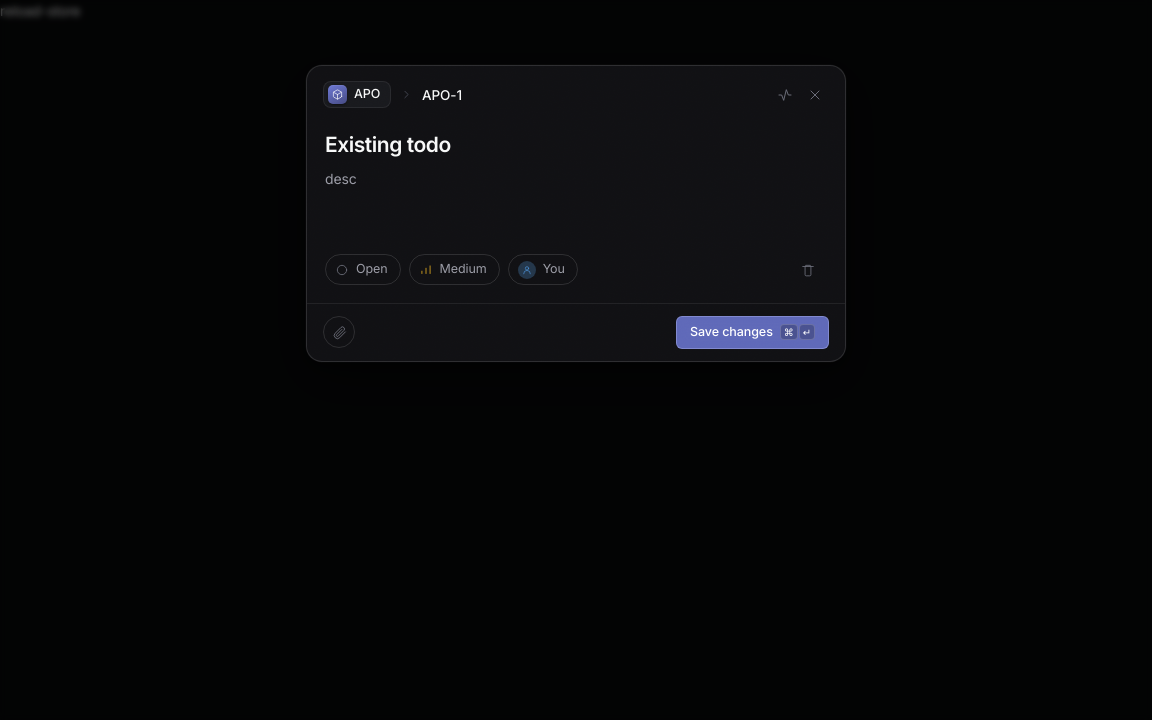
ItemModal status-change toast › keeps the generic 'Saved' toast when only the title changes (no status change)
Replace the text in the field showing "Existing todo" with "Edited title" at (576, 145), box [325,125,827,164]
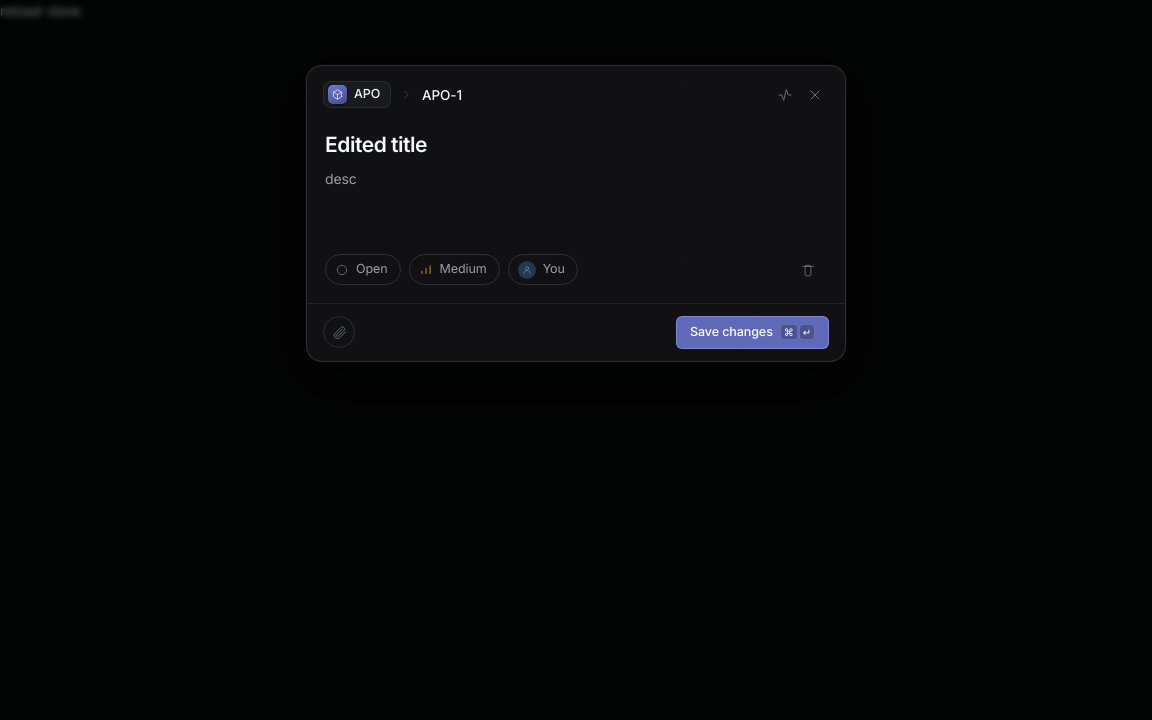
Click the button "Save changes ⌘ ↵" at (752, 332), box [676,316,829,349]
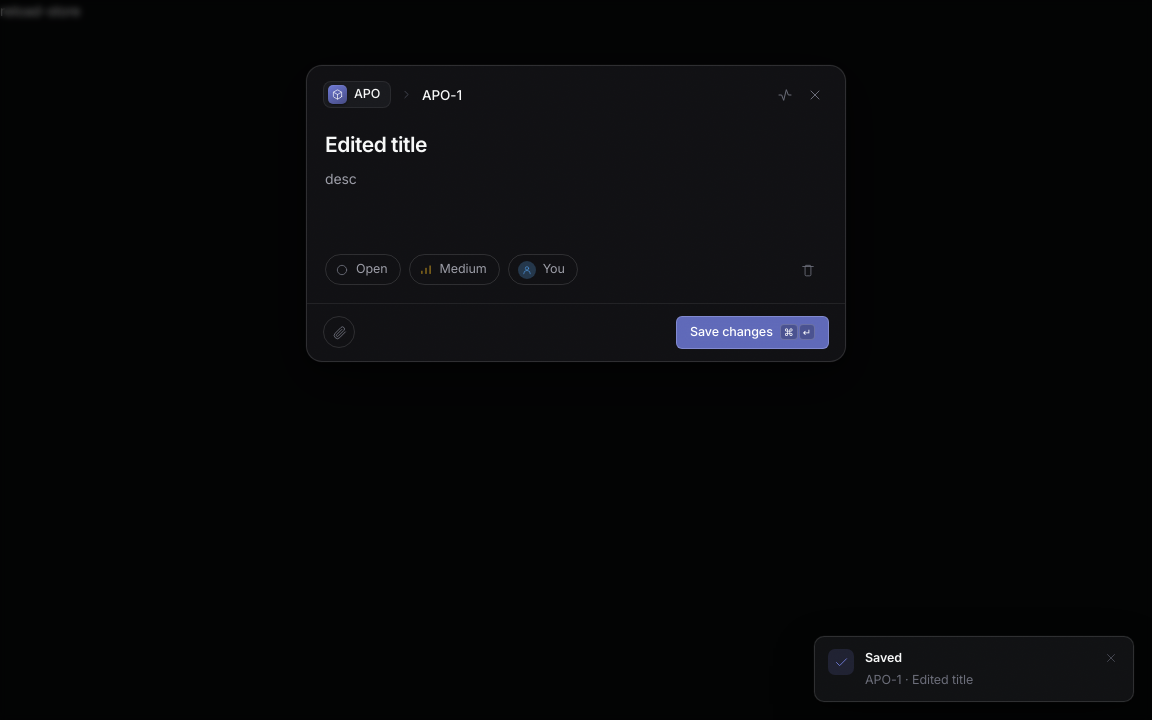
Result: the text "Saved" is shown at [865,650,902,665]
